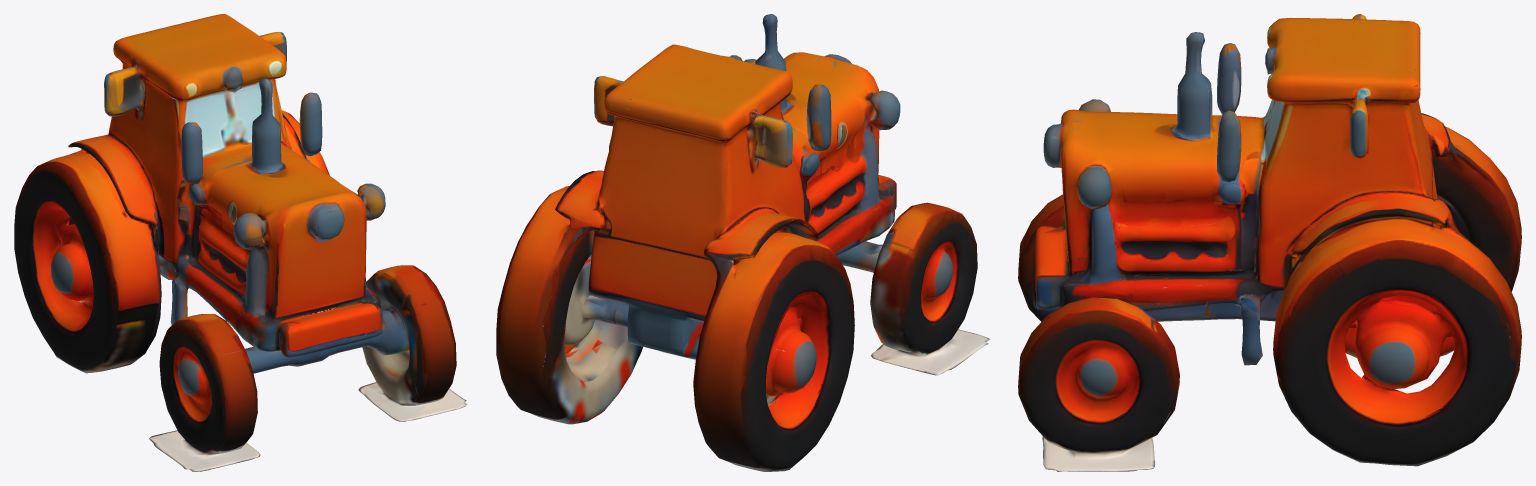
The model's file is S4_pbr.glb.
The picture shows the model from 3 angles, left to right: view 1: azimuth 30°, elevation 25°; view 2: azimuth 150°, elevation 25°; view 3: azimuth 270°, elevation 25°; orthographic projection. The views are drawn at different scales.
Visible parts, largest first — view 1: 4.obj; view 2: 4.obj; view 3: 4.obj.
Part boxes in pixels (x1,y1,x2,y2): 4.obj: [14, 14, 467, 471]; 4.obj: [496, 14, 989, 471]; 4.obj: [1018, 14, 1521, 471].
Bounding box in the file's own units: 1.3 × 1.43 × 1.74.
Materials: 1 (1 with a texture image).
